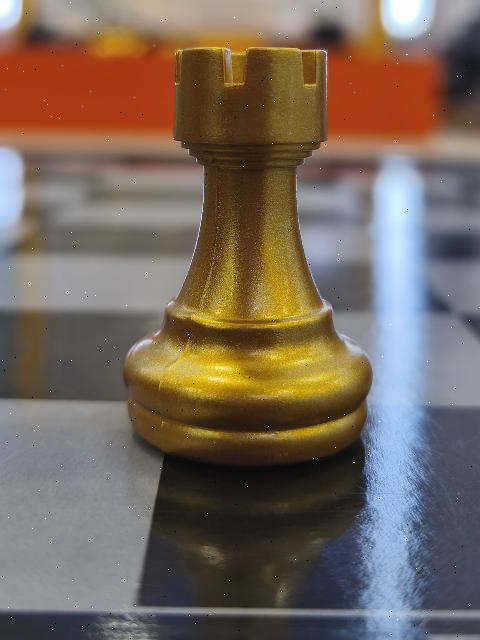black_rook: (128, 39, 372, 462)
